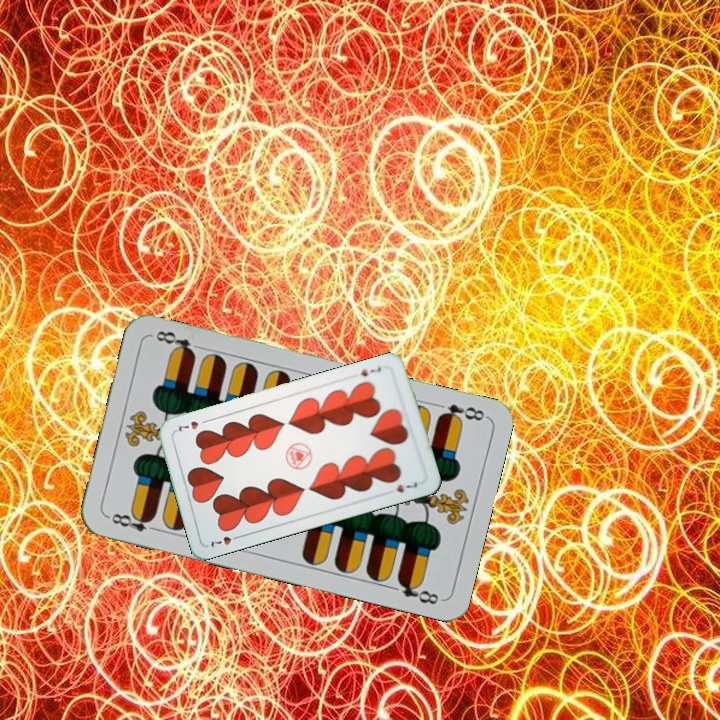E8: (104, 508, 162, 535), (435, 400, 489, 426)
H7: (205, 531, 244, 550), (357, 362, 384, 379)
